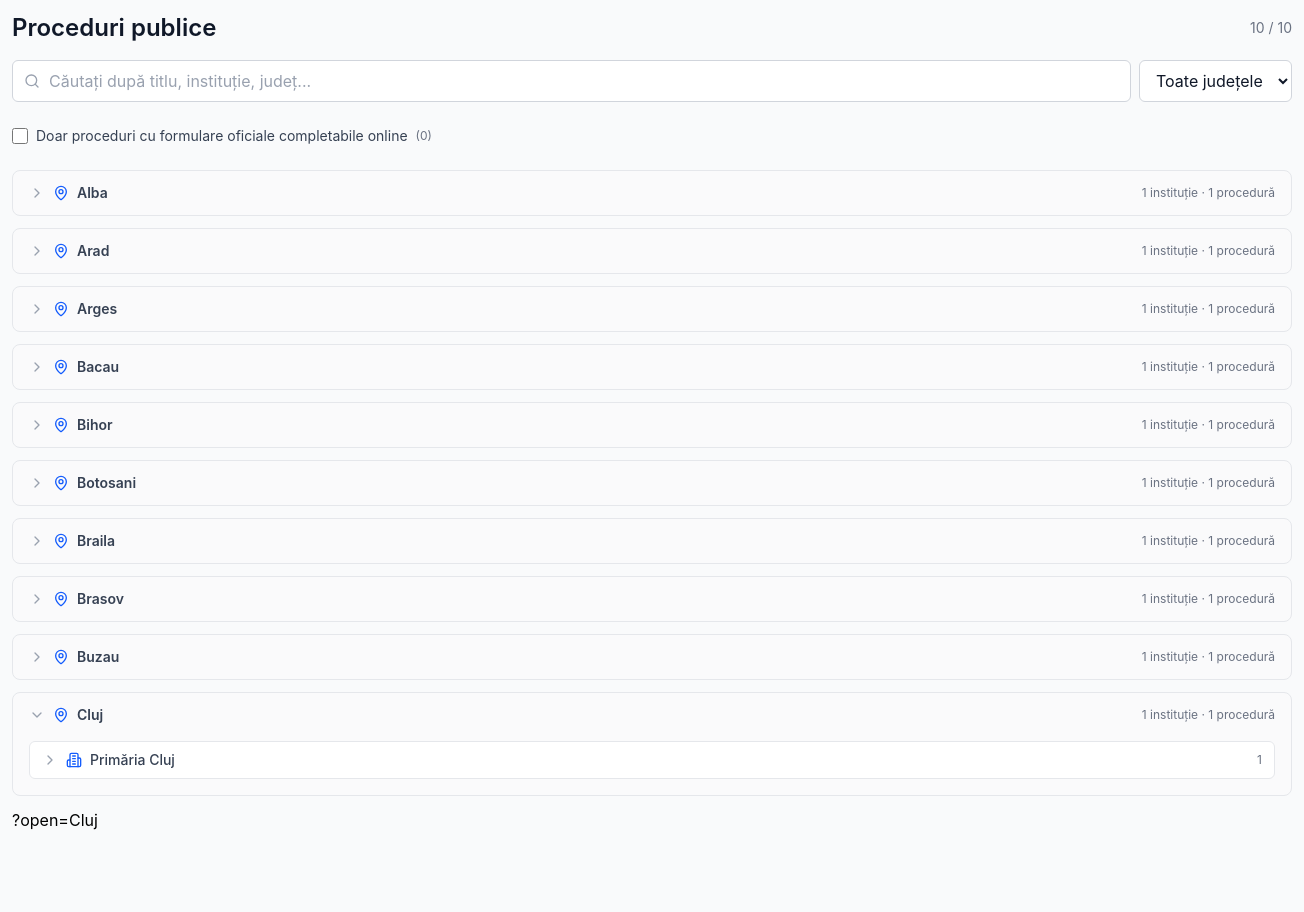
Scenario: ProceduresIndexPage menu state › drops a collapsed county back out of the URL
Click the button "Cluj 1 instituție · 1 procedură": (1174, 714) [13, 693, 1291, 737]
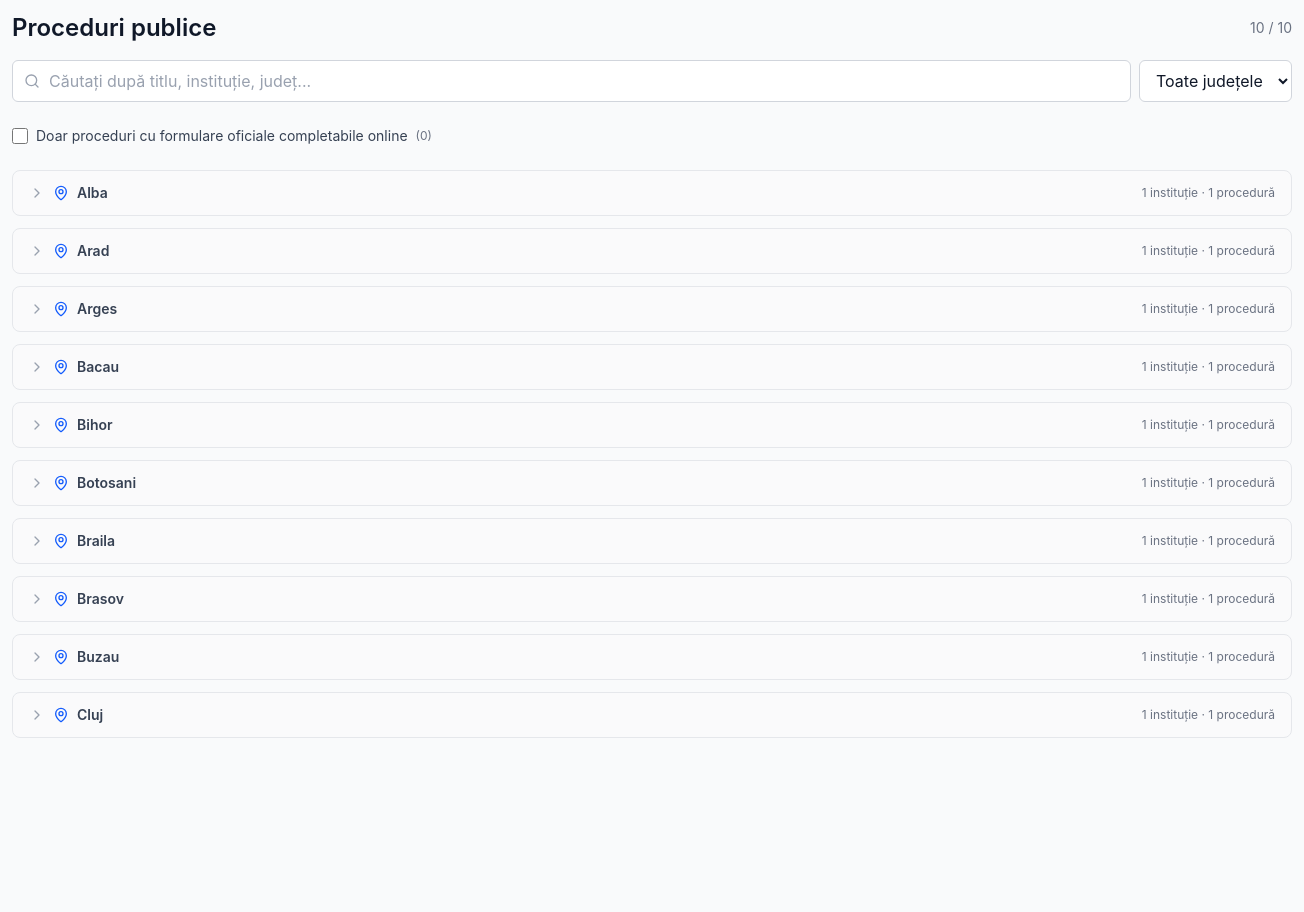
Expected: the button "Primăria Cluj" is gone
